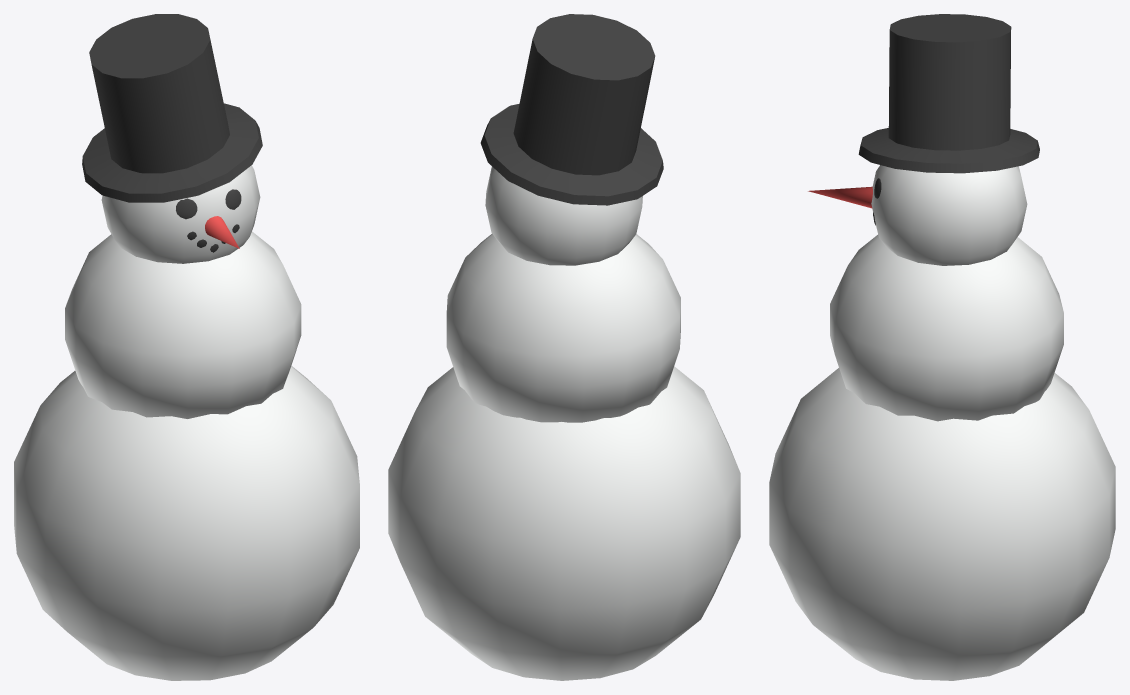
The model's file is snowman.fbx.
The picture shows the model from 3 angles, left to right: view 1: azimuth 30°, elevation 25°; view 2: azimuth 150°, elevation 25°; view 3: azimuth 270°, elevation 25°; orthographic projection.
Visible parts, largest first — view 1: p4, p3, p1, p2; view 2: p4, p3, p1, p2; view 3: p4, p3, p1, p2.
Boxes of the visible parts, x1,y1,x2,y2 form: p4: (14, 366, 359, 680); p3: (65, 231, 301, 418); p1: (82, 14, 262, 202); p2: (101, 165, 260, 263); p4: (388, 366, 740, 680); p3: (446, 234, 680, 422); p1: (480, 14, 663, 205); p2: (485, 166, 642, 265); p4: (769, 368, 1115, 680); p3: (830, 234, 1063, 421); p1: (858, 14, 1039, 173); p2: (808, 165, 1027, 265).
Size of the model in its own units: 414 by 814 by 414.
1 material, 1 textured.
